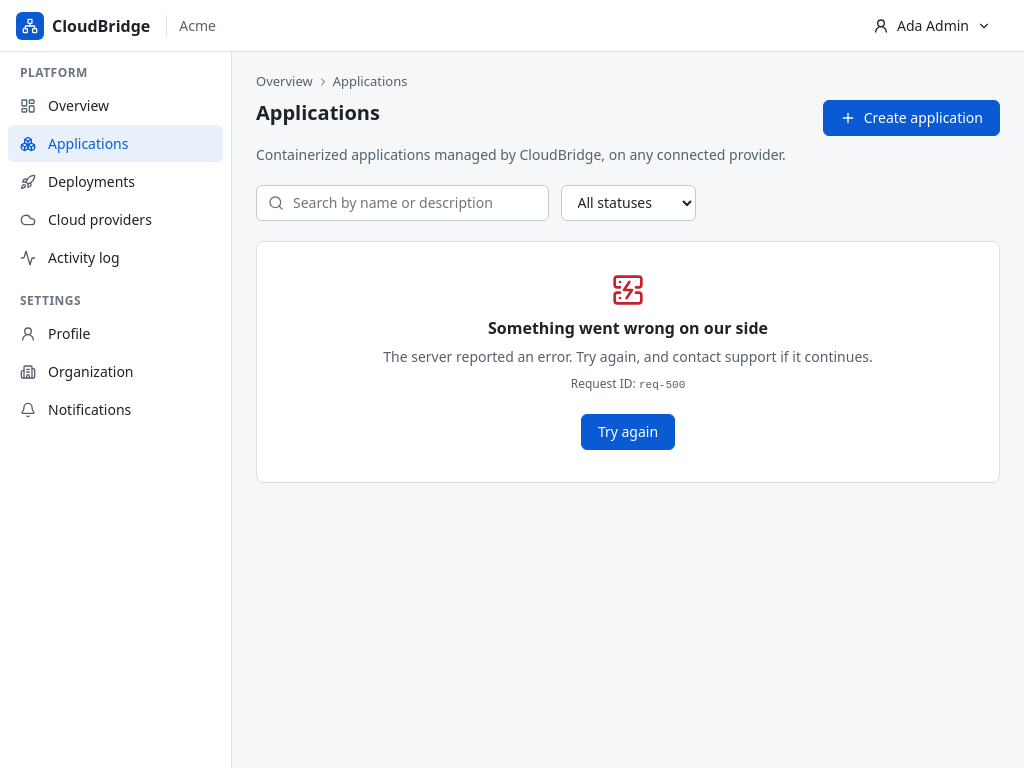
Scenario: applications list › shows an error with retry and the request id, then recovers
Expected: the heading "Something went wrong on our side" is shown, [488,318,768,338]
Expected: the text "req-500" is shown, [639,379,685,391]
Click the button "Try again". click: (628, 432)
box: [581,414,675,450]
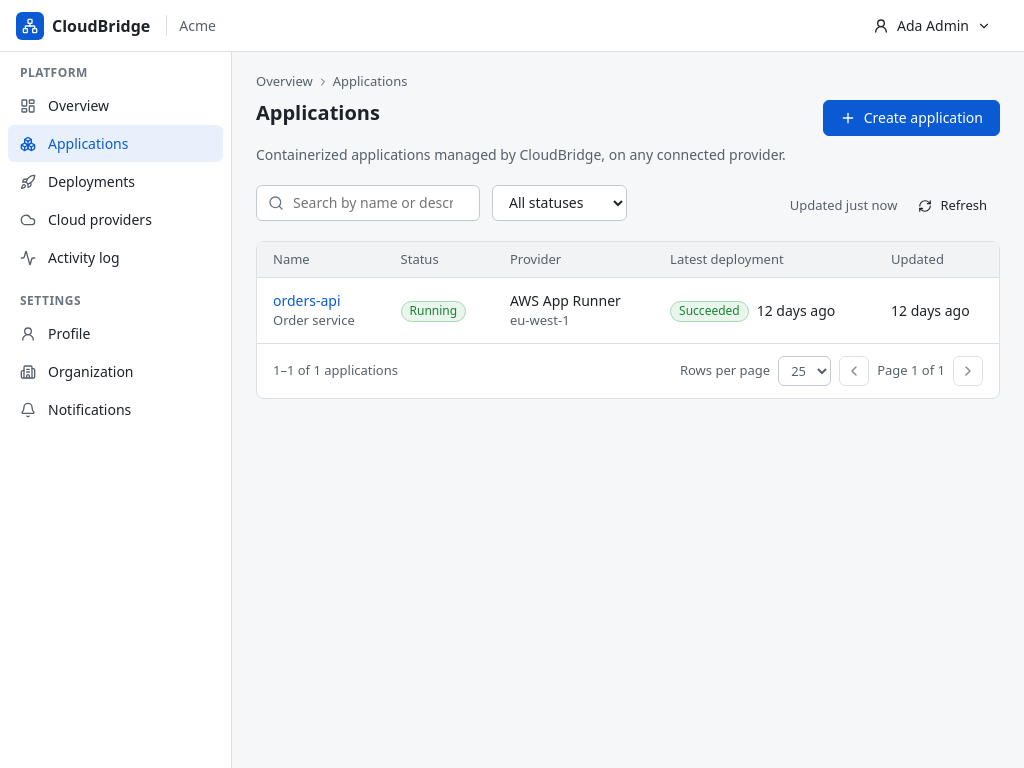
Expected: the link "orders-api" is shown, [273,291,341,310]
